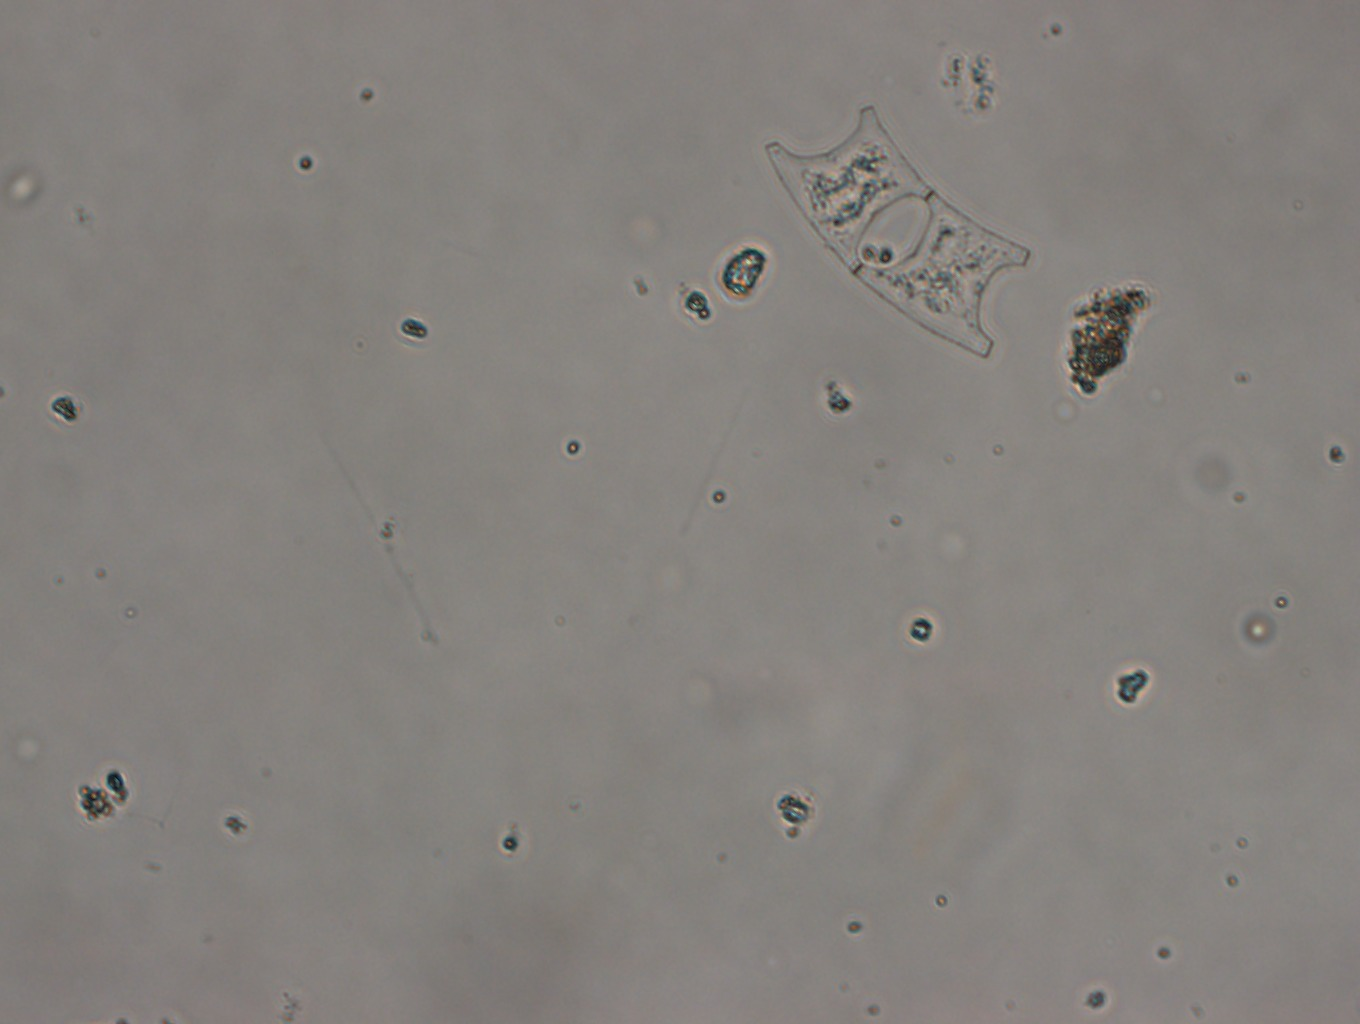eucampia: (753, 106, 1037, 372)
